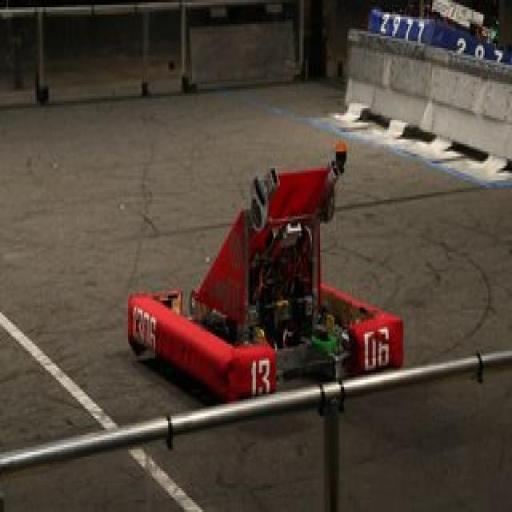robot: (122, 136, 412, 411), (362, 1, 510, 70)
